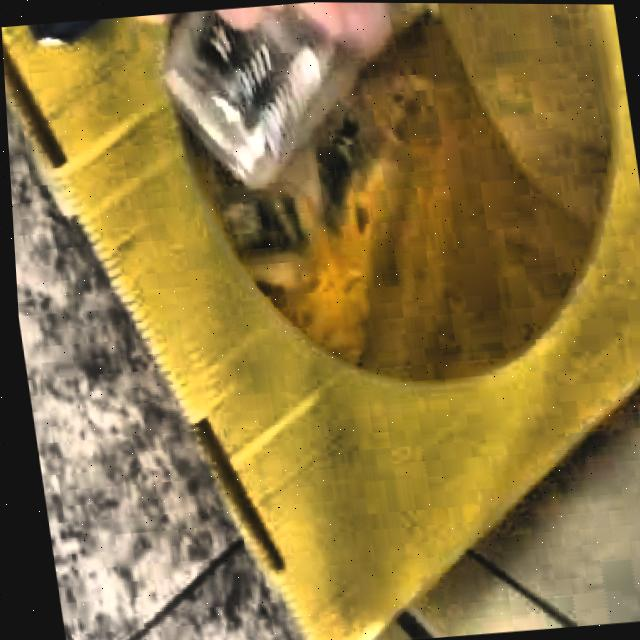plastic: (161, 6, 360, 183)
